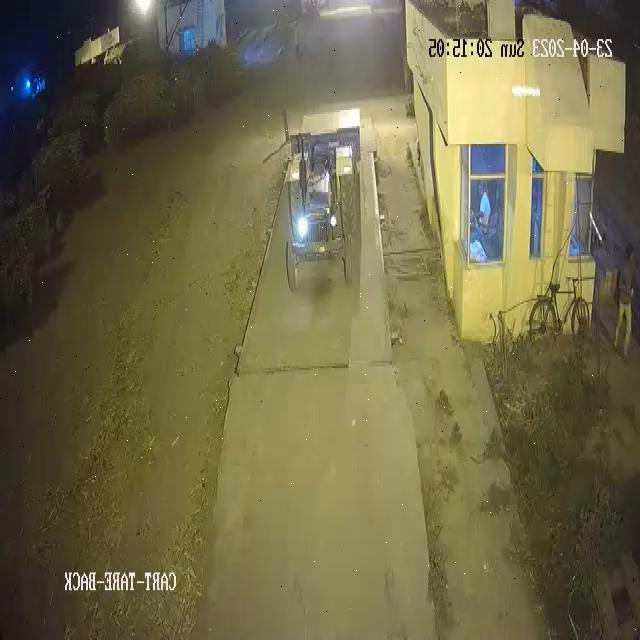Tratores - v5 YOLO V8L 2024-11-13: (282, 136, 361, 306)
